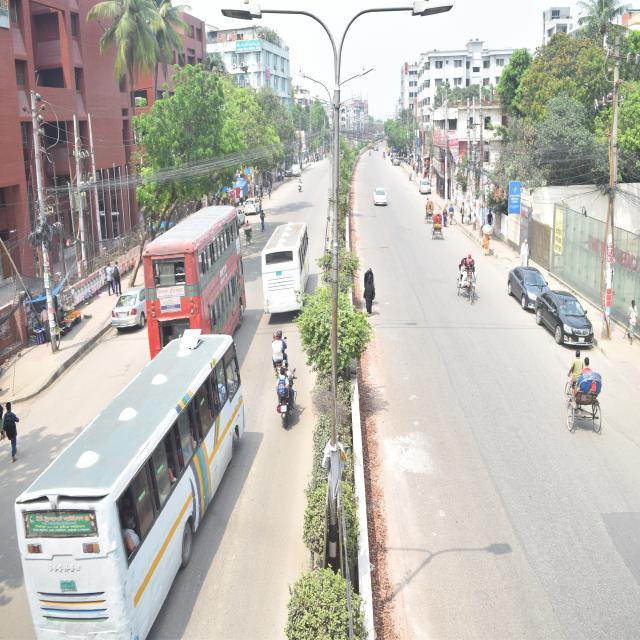bus: (0, 311, 283, 603), (139, 191, 254, 362), (258, 207, 320, 332)
car: (533, 273, 611, 366), (502, 248, 561, 328), (103, 278, 153, 333), (368, 178, 395, 226), (416, 166, 447, 205), (244, 189, 271, 222)
motorbike: (272, 352, 298, 449), (267, 314, 299, 373), (294, 170, 306, 194)
pickup-van: (288, 157, 308, 176)
